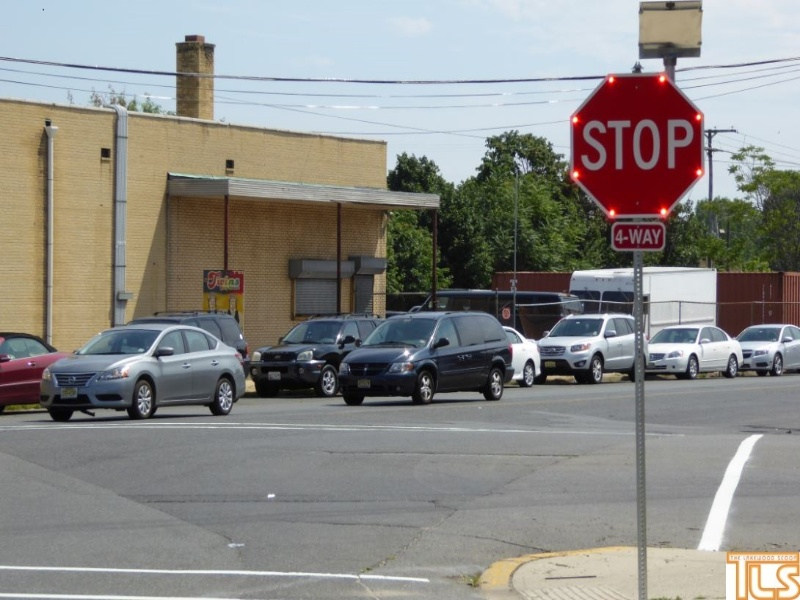stop sign: (566, 73, 712, 220)
